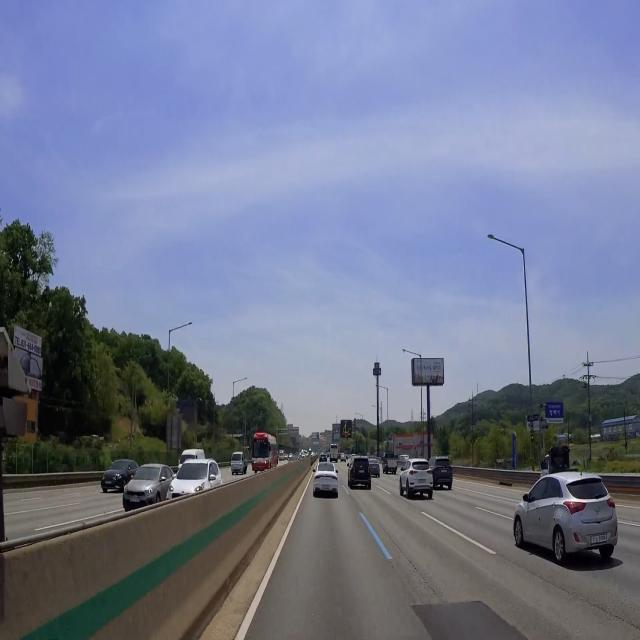car: (587, 530, 611, 549), (127, 491, 143, 509), (417, 476, 429, 490), (319, 483, 333, 494), (436, 467, 451, 477), (103, 478, 115, 489), (357, 464, 364, 477), (369, 464, 381, 471)
